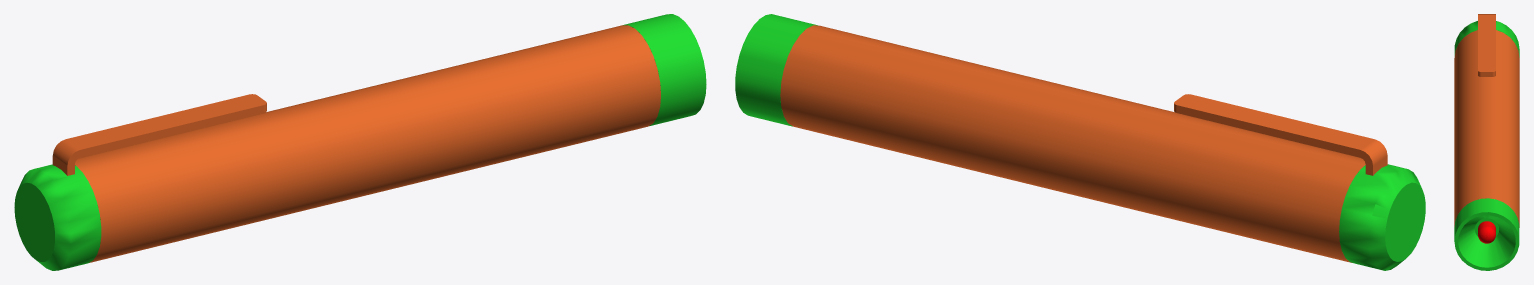
File: penlight-compressed.glb
The picture shows the model from 3 angles, left to right: view 1: azimuth 30°, elevation 25°; view 2: azimuth 150°, elevation 25°; view 3: azimuth 270°, elevation 25°; orthographic projection. The views are drawn at different scales.
Parts seen in each view (by area): view 1: Penlight.002; view 2: Penlight.002; view 3: Penlight.002.
Boxes of the visible parts, bbox=[...] form: Penlight.002: bbox=[14, 14, 706, 270]; Penlight.002: bbox=[735, 14, 1425, 270]; Penlight.002: bbox=[1454, 14, 1519, 270].
Bounding box in the file's own units: 0.0651 × 0.0112 × 0.00915.
